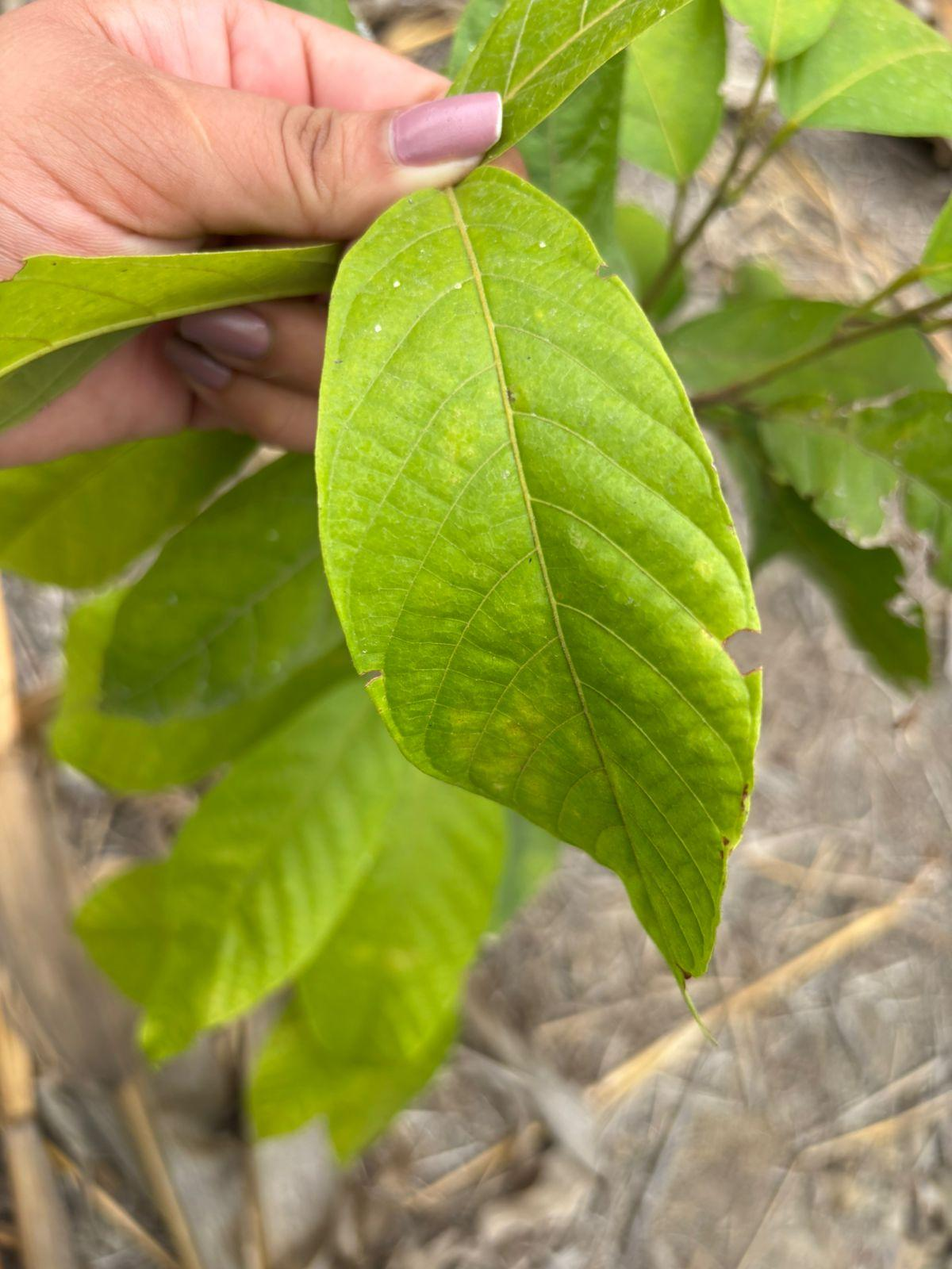deficiencia_nitrogeno: (317, 167, 759, 986)
